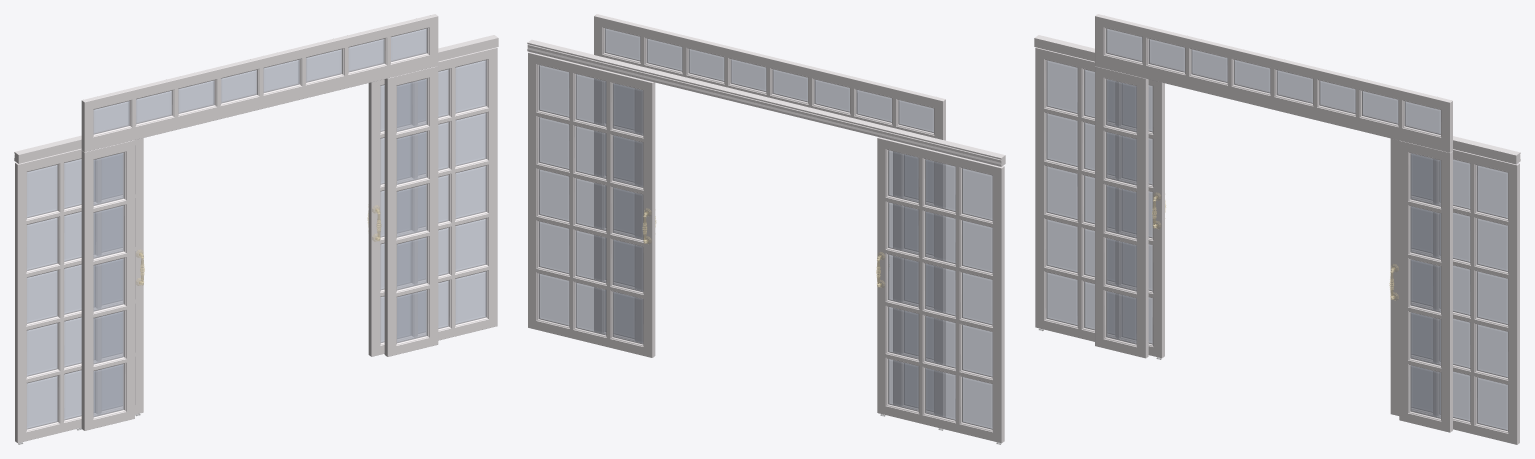
File: puerta.glb
3 views of the same model, side by side, from view 1: azimuth 30°, elevation 25°; view 2: azimuth 150°, elevation 25°; view 3: azimuth 330°, elevation 25° (orthographic).
Visible parts, largest first — view 1: marco, hoja-der, hoja-izq; view 2: marco, hoja-izq, hoja-der; view 3: marco, hoja-der, hoja-izq.
Part boxes in pixels (x1=…): marco: x1=14, y1=14, x2=498, y2=430; hoja-der: x1=367, y1=47, x2=497, y2=356; hoja-izq: x1=15, y1=138, x2=144, y2=444; marco: x1=527, y1=14, x2=1005, y2=416; hoja-izq: x1=876, y1=137, x2=1004, y2=444; hoja-der: x1=528, y1=52, x2=656, y2=357; marco: x1=1034, y1=14, x2=1520, y2=432; hoja-der: x1=1389, y1=138, x2=1519, y2=444; hoja-izq: x1=1035, y1=47, x2=1165, y2=359.
Size of the model in its own units: 3.47 by 2.29 by 0.1434.
